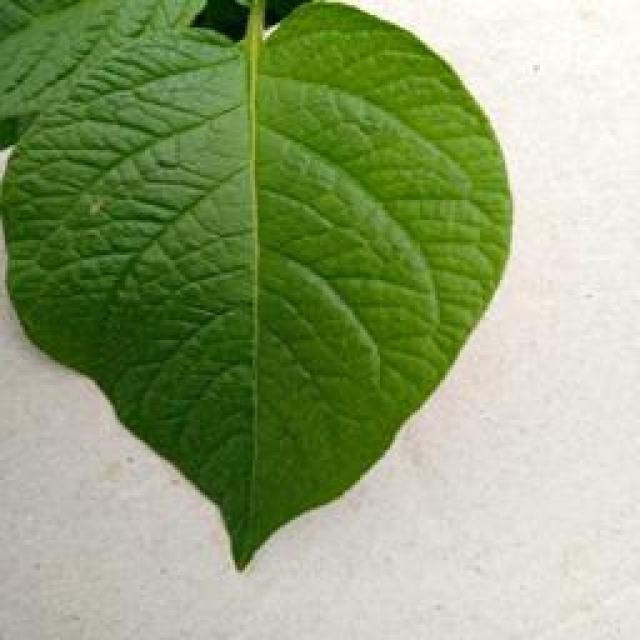healthy: (0, 0, 518, 575)
